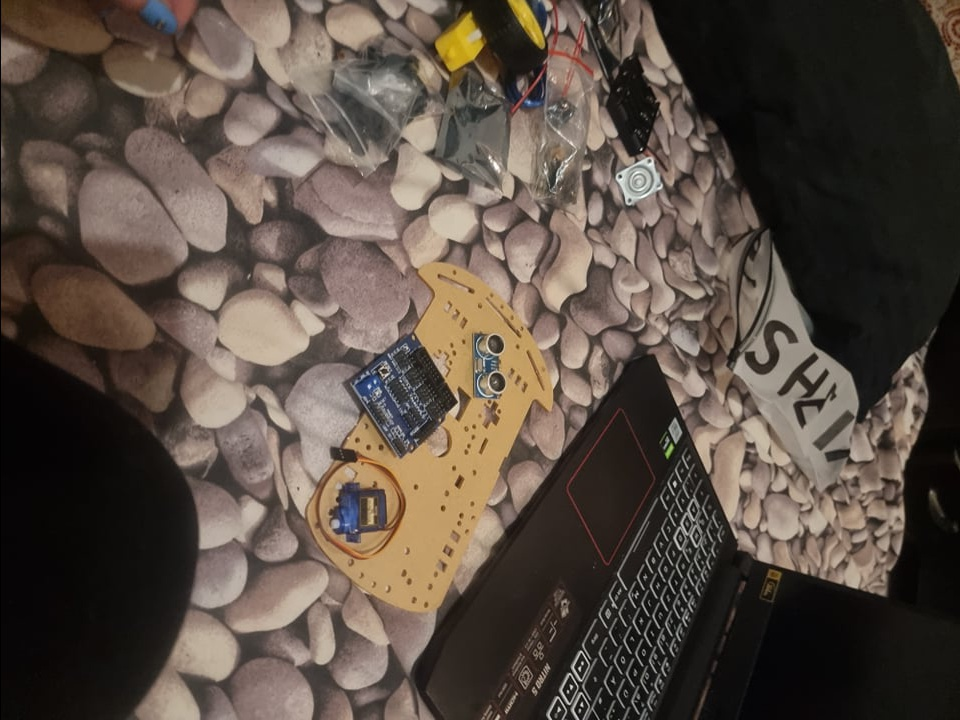5V EXPANSION: (345, 332, 458, 459)
BATTERY BOX: (604, 53, 660, 159)
SENSOR: (471, 330, 507, 399)
